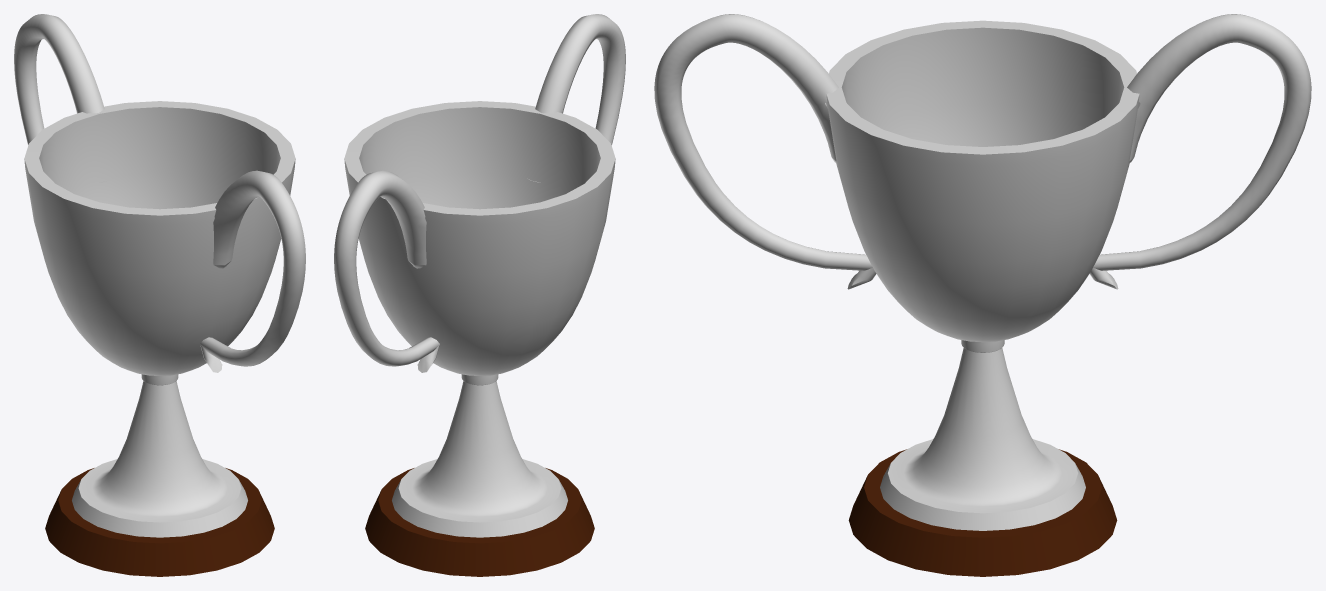
Rendered from WinnerCup.obj.
3 renders of one model, left to right at view 1: azimuth 30°, elevation 25°; view 2: azimuth 150°, elevation 25°; view 3: azimuth 270°, elevation 25°, orthographic. The views are drawn at different scales.
Parts seen in each view (by area): view 1: Base, Handle, Handle_1; view 2: Base, Handle_1, Handle; view 3: Base, Handle, Handle_1.
Part boxes in pixels (x1=…): Base: x1=24, y1=101, x2=295, y2=576; Handle: x1=200, y1=170, x2=305, y2=372; Handle_1: x1=14, y1=14, x2=110, y2=182; Base: x1=344, y1=101, x2=615, y2=576; Handle_1: x1=334, y1=170, x2=439, y2=372; Handle: x1=529, y1=14, x2=625, y2=182; Base: x1=826, y1=20, x2=1139, y2=576; Handle: x1=654, y1=14, x2=876, y2=289; Handle_1: x1=1089, y1=14, x2=1311, y2=289.
Size of the model in its own units: 200 by 352 by 414.
